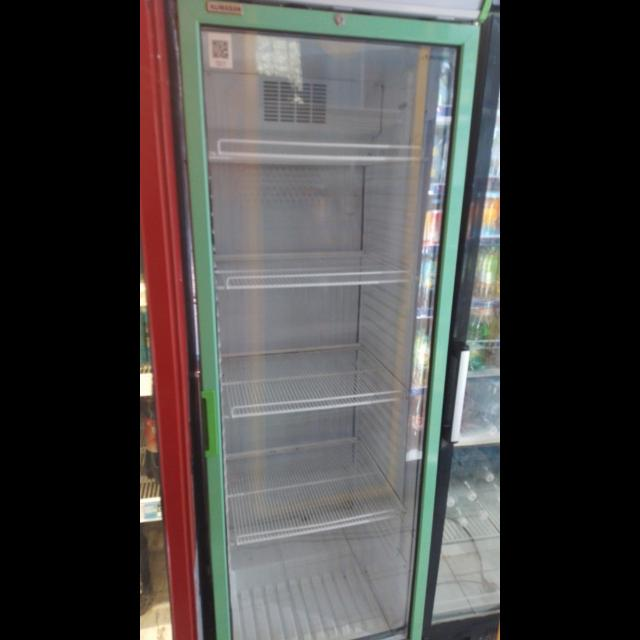Cooling-Display: (177, 1, 488, 640)
